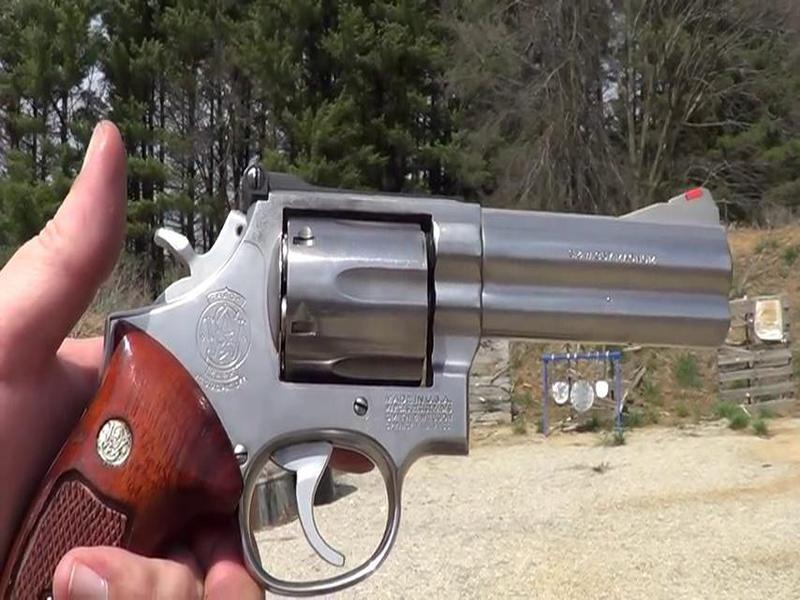Revolver: (51, 164, 737, 579)
